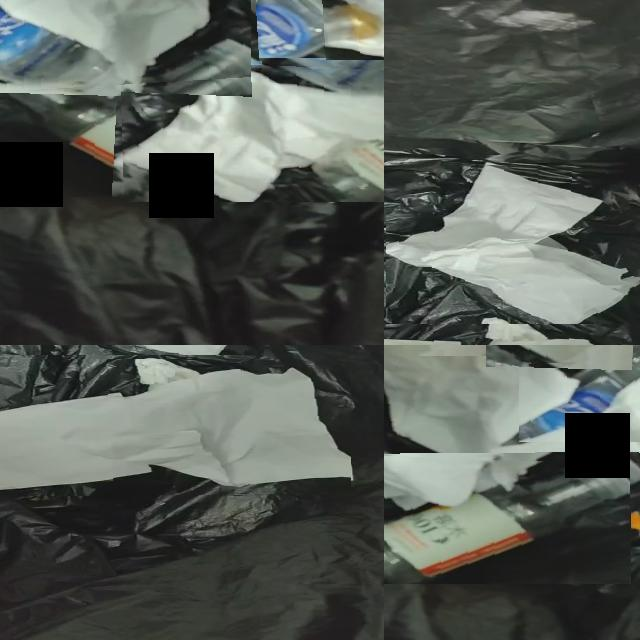bottle: (0, 54, 258, 197), (384, 461, 630, 584), (132, 0, 384, 97), (519, 345, 640, 439)
paper: (0, 359, 351, 490), (384, 345, 640, 505), (386, 164, 640, 324), (123, 63, 384, 202), (0, 0, 211, 86), (325, 0, 384, 57)
